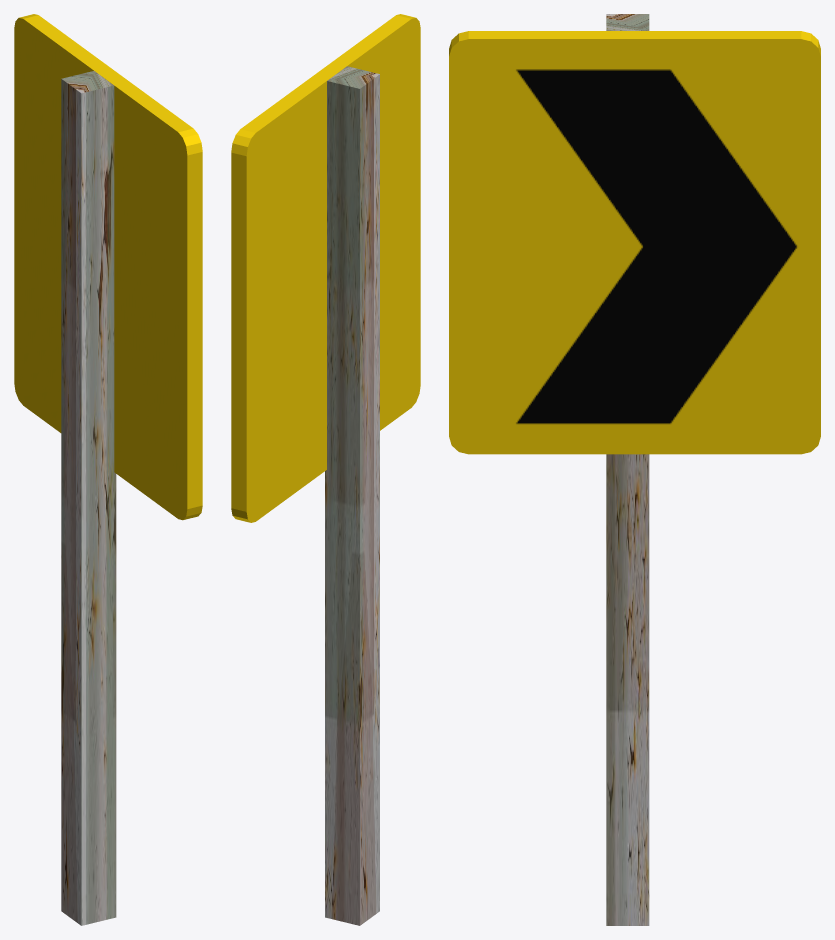
Rendered from sign_arrow R.fbx.
3 views of the same model, side by side, from view 1: azimuth 30°, elevation 25°; view 2: azimuth 150°, elevation 25°; view 3: azimuth 270°, elevation 25° (orthographic). The views are drawn at different scales.
Parts seen in each view (by area): view 1: Cube.013; view 2: Cube.013; view 3: Cube.013.
Boxes of the visible parts, x1,y1,x2,y2 form: Cube.013: (14, 14, 202, 925); Cube.013: (231, 14, 420, 925); Cube.013: (449, 14, 820, 925).
Bounding box in the file's own units: 18.57 × 307 × 116.
Materials: 2 (2 with a texture image).
